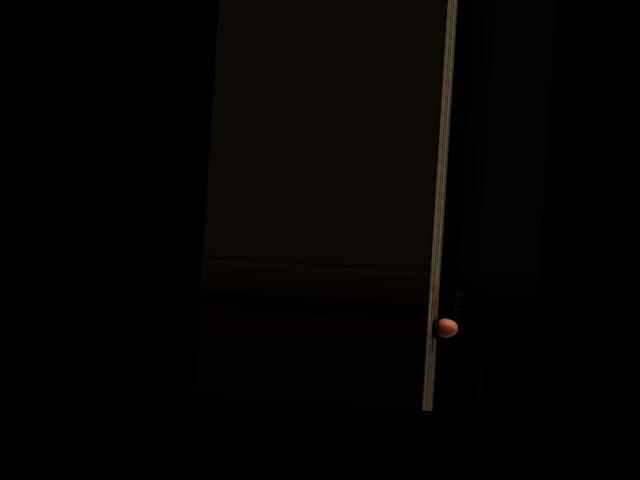egg: (436, 318, 458, 338)
